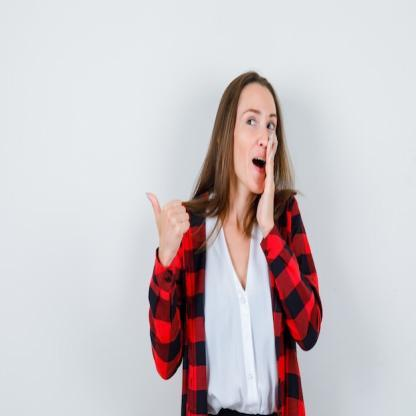thumb_up: (144, 190, 192, 260)
